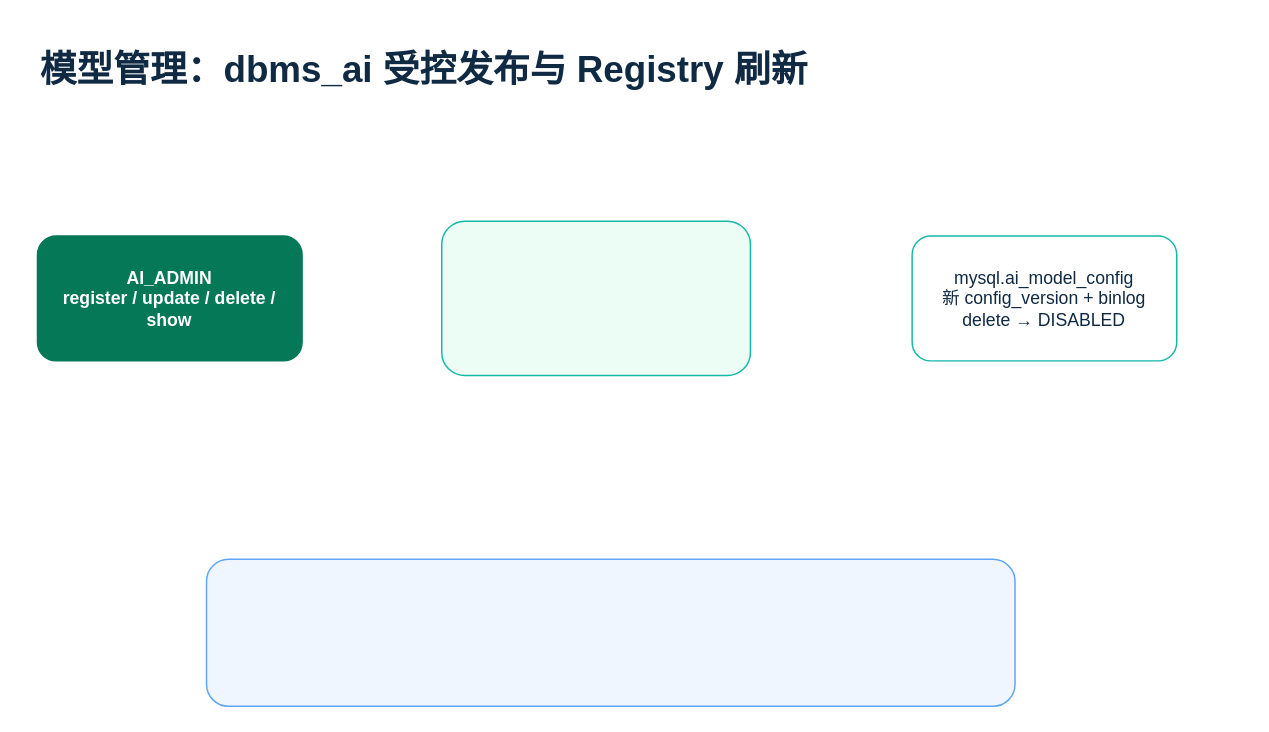
Some shapes in this 1269 by 732 pixel diagram are drawn without their labels. The shapes that lost their labels are listed below. From the top down, each one's centre as x and y in pixels, then its label:
At point 595,298: "dbms_ai 校验 Provider / capability / Endpoint dimension / options / 凭据可用性".
At point 610,632: "Registry 原子发布不可变 Profile 快照 后续调用用新版本；运行中调用保持旧快照 复制 applier 应用控制面变更，只读节点不写审计系统表".
